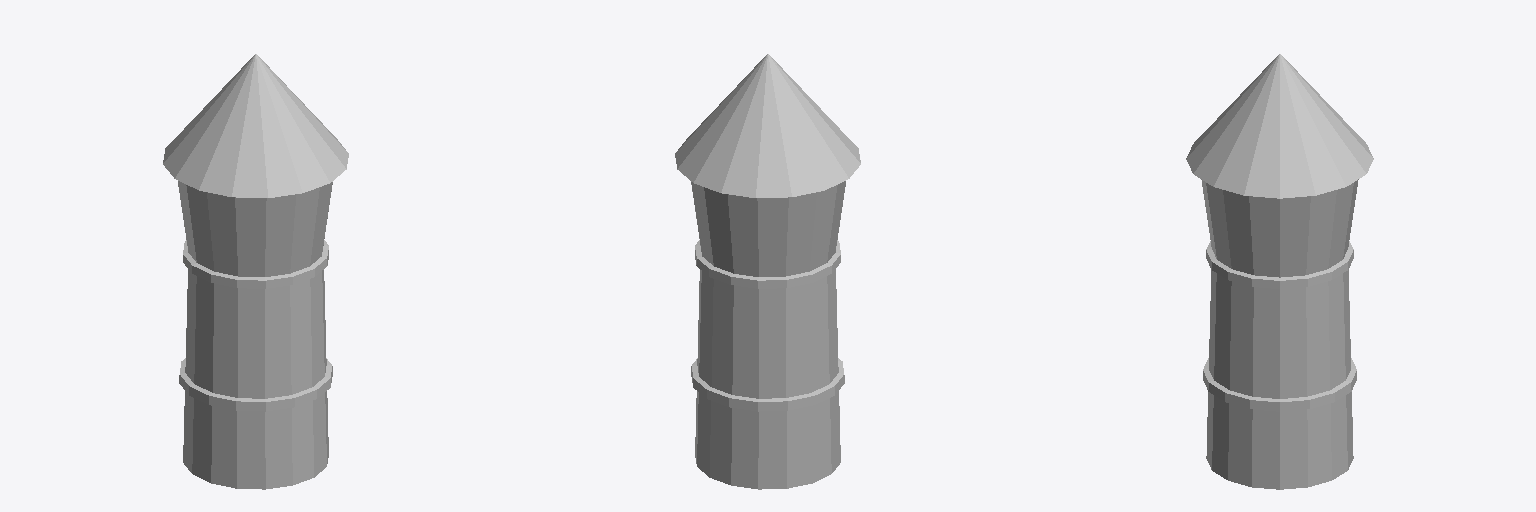
The model's file is house_13.obj.
The picture shows the model from 3 angles: view 1: azimuth 30°, elevation 25°; view 2: azimuth 150°, elevation 25°; view 3: azimuth 270°, elevation 25°; orthographic projection.
Parts seen in each view (by area): view 1: Cylinder_Cylinder.001; view 2: Cylinder_Cylinder.001; view 3: Cylinder_Cylinder.001.
Part boxes in pixels (left/top/right/bottom): Cylinder_Cylinder.001: left=163, top=54, right=348, bottom=489; Cylinder_Cylinder.001: left=675, top=54, right=860, bottom=489; Cylinder_Cylinder.001: left=1186, top=54, right=1373, bottom=489.
Bounding box in the file's own units: 6.17 × 14.69 × 6.17.